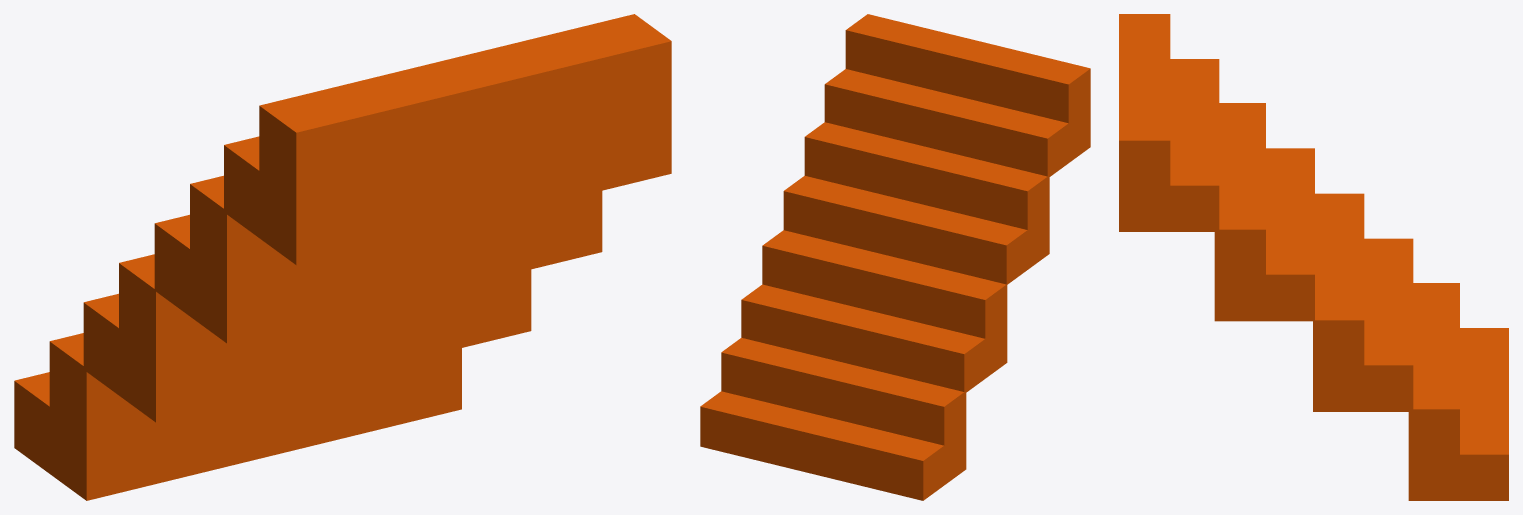
File: staircase.fbx
3 renders of one model, left to right at view 1: azimuth 30°, elevation 25°; view 2: azimuth 150°, elevation 25°; view 3: azimuth 270°, elevation 25°, orthographic. The views are drawn at different scales.
Visible parts, largest first — view 1: 큐브; view 2: 큐브; view 3: 큐브.
Part boxes in pixels (x1,y1,x2,y2): 큐브: (14, 14, 671, 500); 큐브: (700, 14, 1090, 500); 큐브: (1119, 14, 1508, 500).
Bounding box in the file's own units: 1168 × 1551 × 1520.
